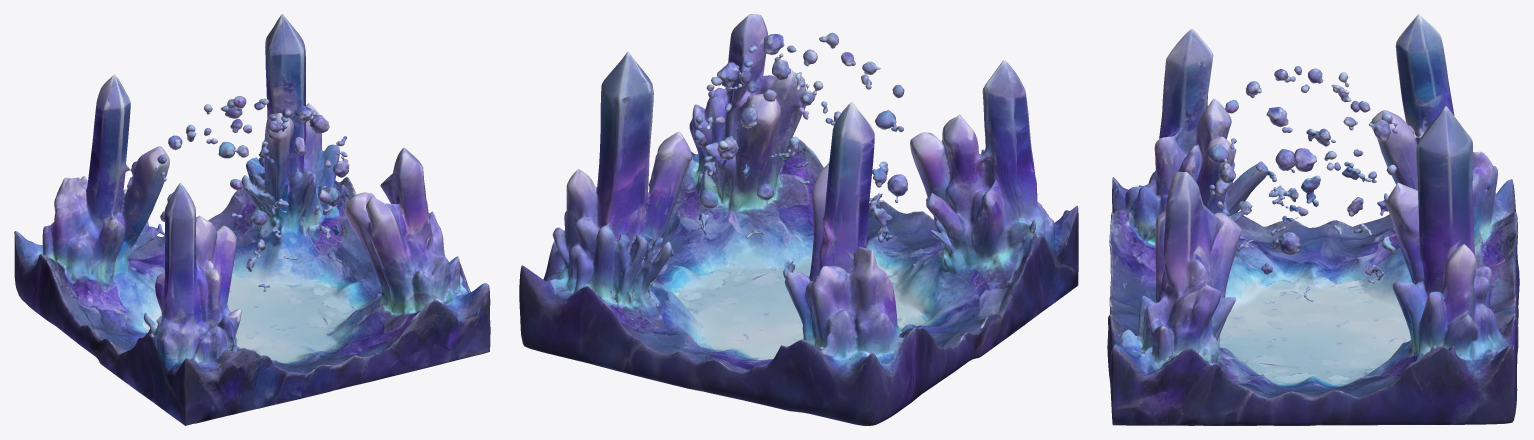
File: _PBR_Hyper_detailed.glb
3 renders of one model, left to right at view 1: azimuth 30°, elevation 25°; view 2: azimuth 150°, elevation 25°; view 3: azimuth 270°, elevation 25°, orthographic. The views are drawn at different scales.
Parts seen in each view (by area): view 1: _PBR_Hyper_detailed; view 2: _PBR_Hyper_detailed; view 3: _PBR_Hyper_detailed.
Part boxes in pixels (x1,y1,x2,y2): _PBR_Hyper_detailed: [14, 14, 490, 425]; _PBR_Hyper_detailed: [519, 14, 1078, 425]; _PBR_Hyper_detailed: [1107, 14, 1519, 425].
Bounding box in the file's own units: 1.82 × 1.39 × 1.82.
1 material, 1 textured.
